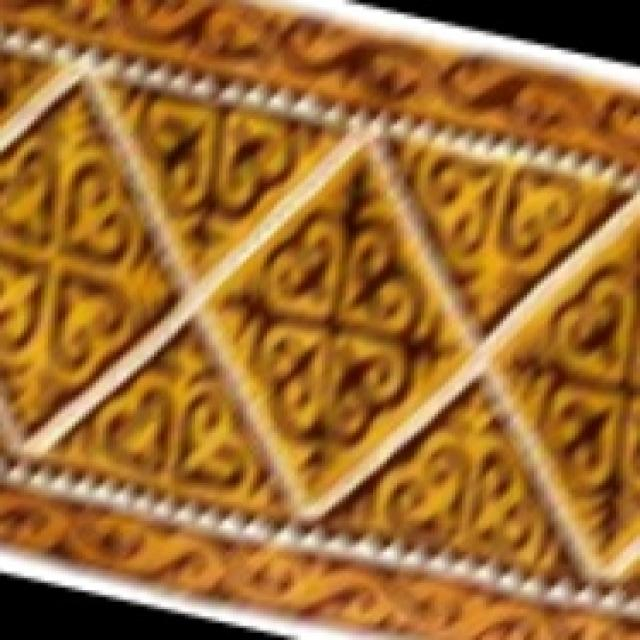Unity: (211, 153, 469, 507), (0, 88, 177, 435), (487, 226, 637, 571), (101, 80, 343, 285), (382, 130, 622, 330), (329, 386, 573, 575), (49, 333, 291, 523)
